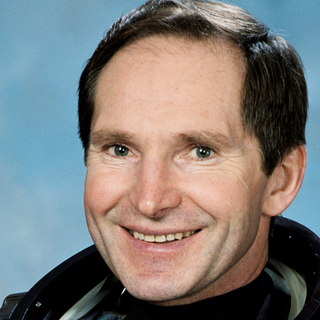eye: (165, 140, 226, 166), (95, 138, 145, 167)
